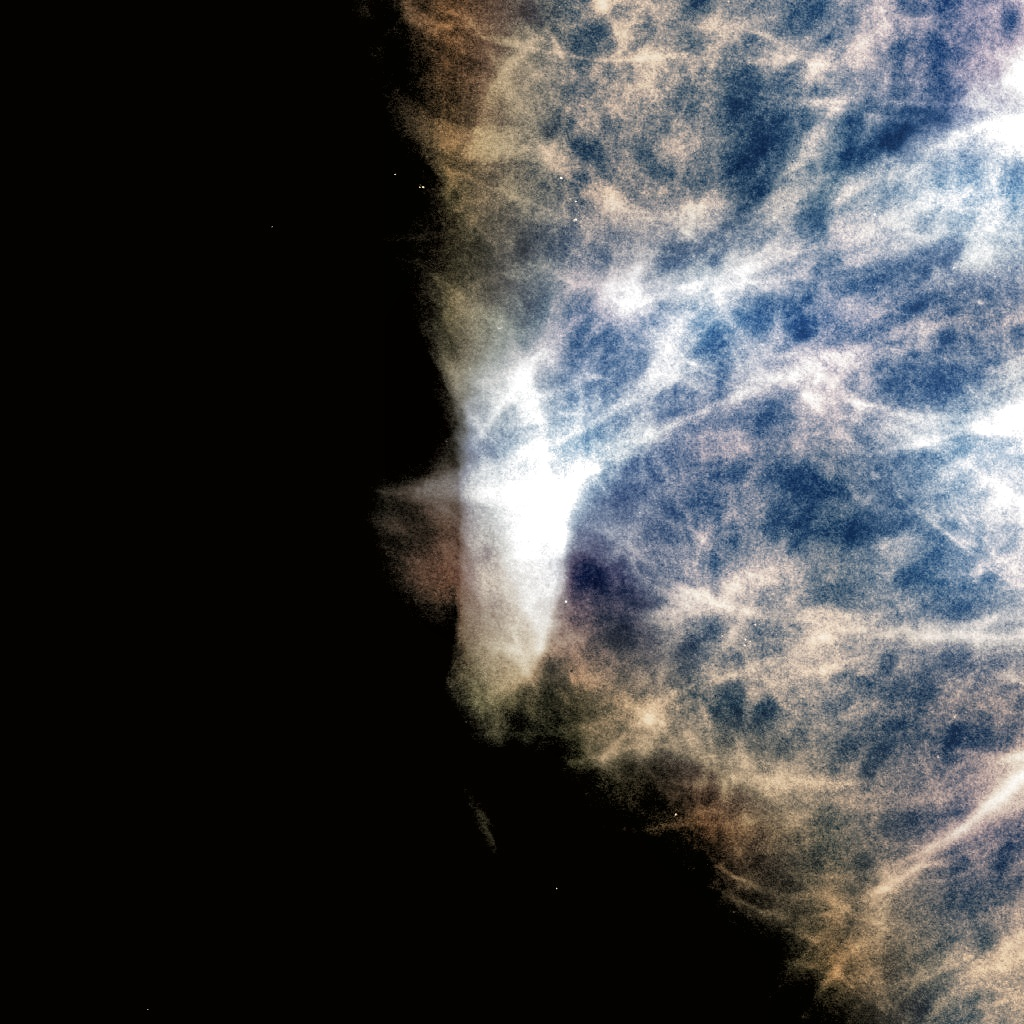tumor: (428, 344, 643, 680), (381, 473, 468, 604)
